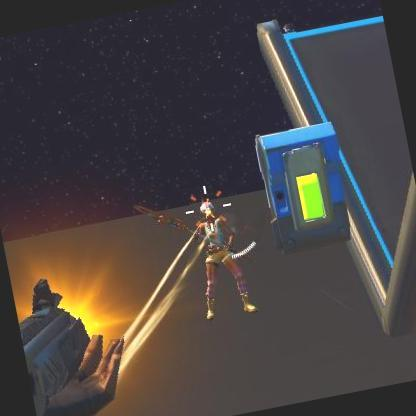person: (197, 192, 253, 314)
